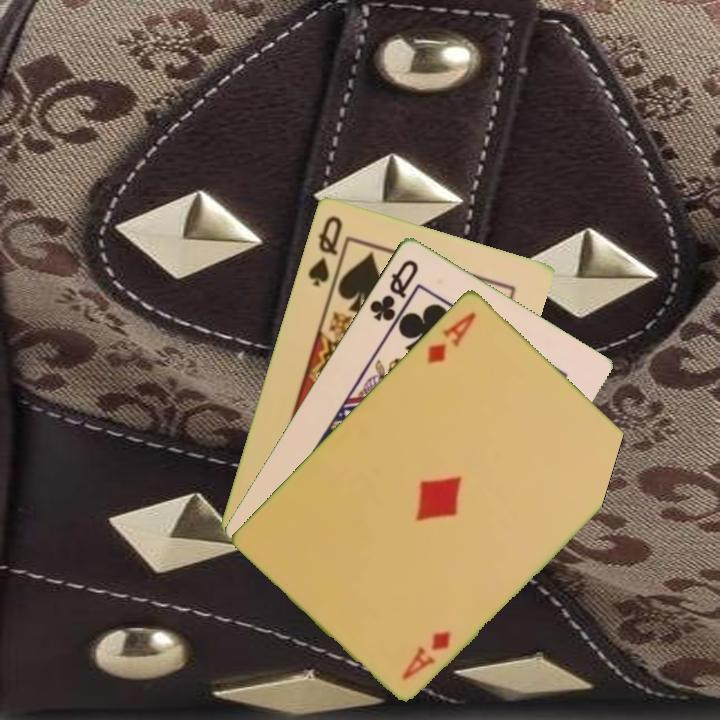Ad: (423, 307, 479, 366), (398, 627, 454, 683)
Qc: (365, 255, 422, 324)
Qs: (304, 211, 345, 289)
